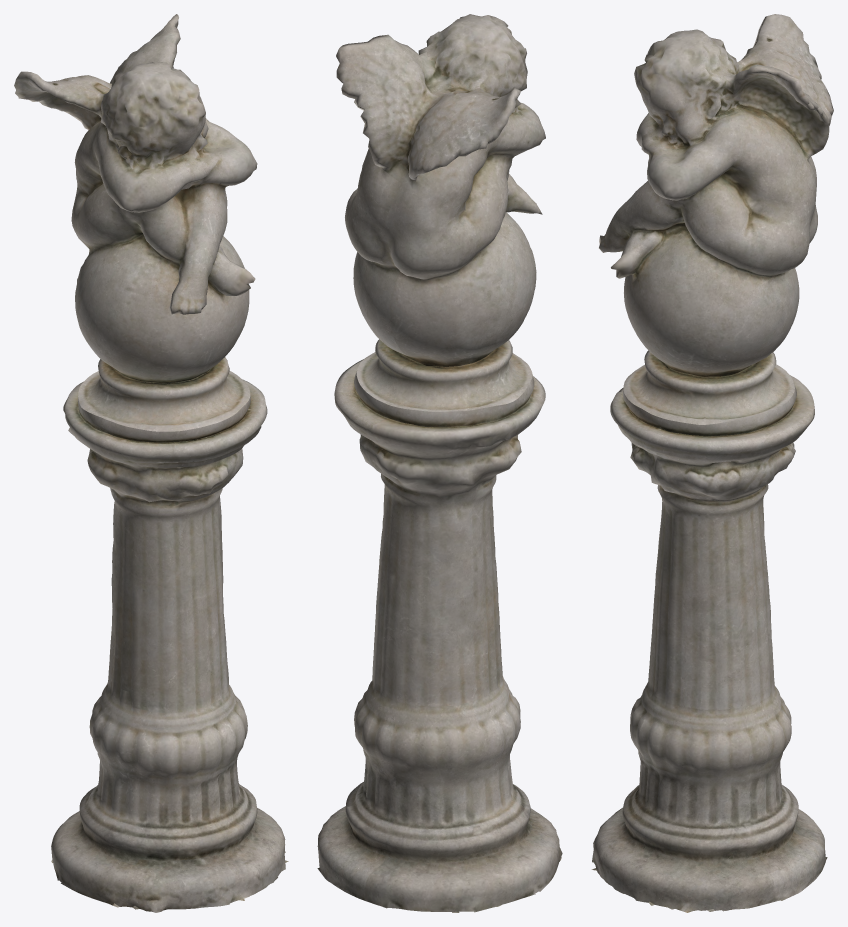
File: putto-statue-cc-by.glb
3 views of the same model, side by side, from view 1: azimuth 30°, elevation 25°; view 2: azimuth 150°, elevation 25°; view 3: azimuth 270°, elevation 25° (orthographic). The views are drawn at different scales.
Parts seen in each view (by area): view 1: statueLP; view 2: statueLP; view 3: statueLP.
Part boxes in pixels (bbox=[...]): statueLP: bbox=[14, 14, 288, 912]; statueLP: bbox=[317, 14, 562, 912]; statueLP: bbox=[591, 14, 833, 912].
Bounding box in the file's own units: 0.1271 × 0.45 × 0.1219.
Materials: 1 (1 with a texture image).
